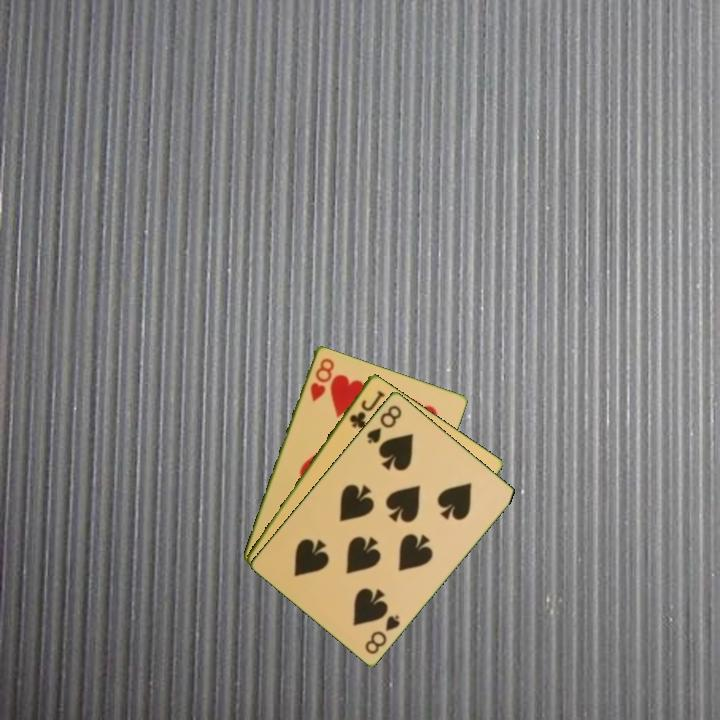8h: (306, 354, 337, 404)
8s: (361, 611, 403, 657), (363, 401, 405, 446)
Jc: (346, 386, 387, 431)
